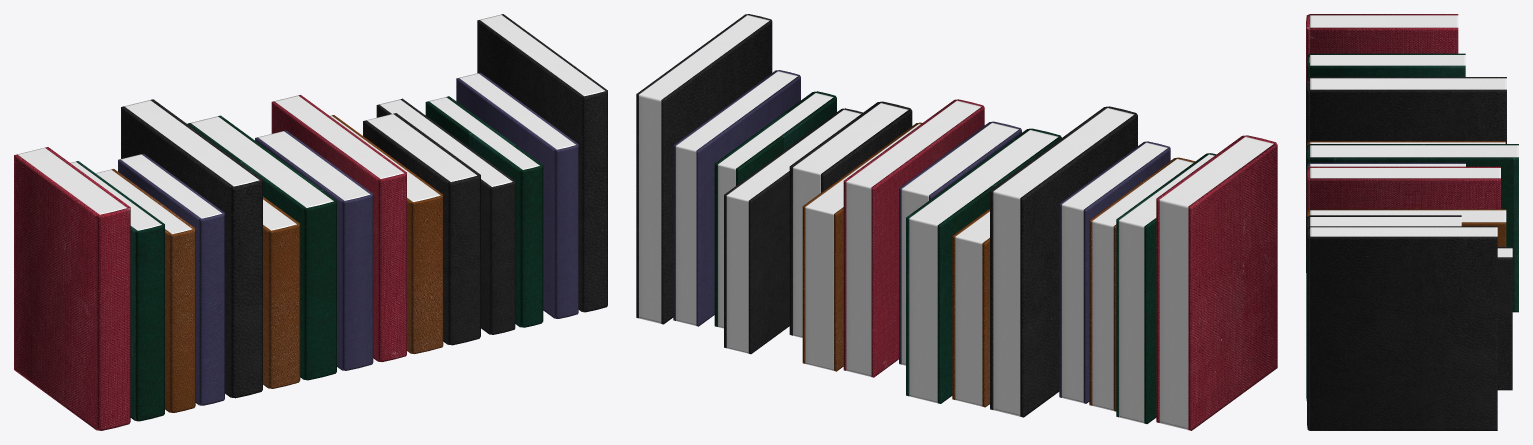
File: Books.fbx
The picture shows the model from 3 angles, left to right: view 1: azimuth 30°, elevation 25°; view 2: azimuth 150°, elevation 25°; view 3: azimuth 270°, elevation 25°; orthographic projection. The views are drawn at different scales.
Parts seen in each view (by area): view 1: book, book.004, book.016, book.008, book.006, book.015, book.010, book.007, book.003, book.013, book.001, book.012 (+3 smaller); view 2: book, book.004, book.016, book.008, book.006, book.012, book.015, book.001, book.003, book.009, book.010, book.005 (+3 smaller); view 3: book.016, book.004, book.008, book, book.006, book.001, book.012, book.009, book.010, book.007, book.005.
Part boxes in pixels (left/top/right/bottom): book: left=14, top=147, right=130, bottom=430; book.004: left=121, top=99, right=262, bottom=398; book.016: left=477, top=14, right=607, bottom=312; book.008: left=271, top=95, right=406, bottom=361; book.006: left=187, top=115, right=336, bottom=380; book.015: left=456, top=72, right=578, bottom=318; book.010: left=363, top=113, right=480, bottom=345; book.007: left=255, top=130, right=373, bottom=370; book.003: left=118, top=153, right=224, bottom=405; book.013: left=425, top=96, right=543, bottom=327; book.001: left=70, top=161, right=164, bottom=421; book.012: left=376, top=98, right=515, bottom=334; book: left=1156, top=135, right=1277, bottom=430; book.004: left=990, top=106, right=1137, bottom=417; book.016: left=636, top=14, right=772, bottom=324; book.008: left=843, top=99, right=984, bottom=377; book.006: left=906, top=128, right=1061, bottom=403; book.012: left=724, top=108, right=862, bottom=354; book.015: left=673, top=70, right=800, bottom=326; book.001: left=1116, top=153, right=1216, bottom=423; book.003: left=1059, top=141, right=1170, bottom=403; book.009: left=802, top=122, right=921, bottom=371; book.010: left=789, top=101, right=912, bottom=337; book.005: left=952, top=208, right=989, bottom=407; book.016: left=1307, top=226, right=1497, bottom=430; book.004: left=1306, top=77, right=1506, bottom=272; book.008: left=1306, top=166, right=1500, bottom=216; book: left=1306, top=14, right=1458, bottom=83; book.006: left=1306, top=144, right=1518, bottom=312; book.001: left=1306, top=53, right=1465, bottom=77; book.012: left=1497, top=247, right=1512, bottom=390; book.009: left=1307, top=209, right=1506, bottom=246; book.010: left=1306, top=215, right=1461, bottom=255; book.007: left=1306, top=162, right=1465, bottom=172; book.005: left=1306, top=141, right=1505, bottom=146.
Bounding box in the file's own units: 88.37 × 35.52 × 35.47.
